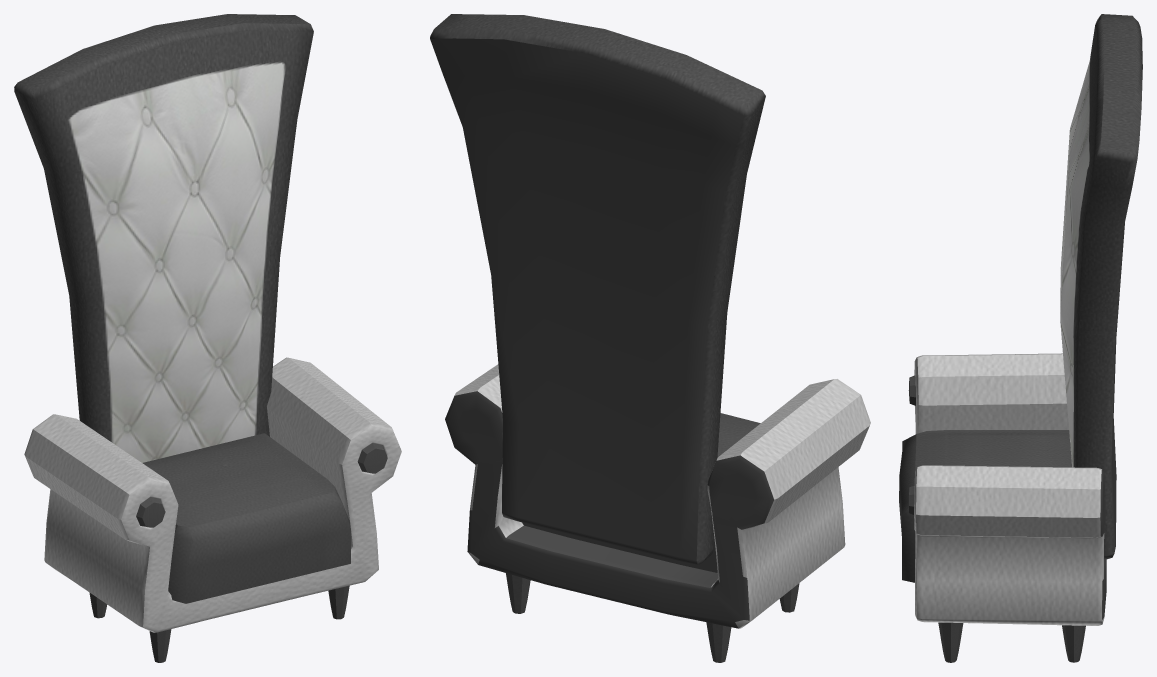
File: Chair.fbx
3 views of the same model, side by side, from view 1: azimuth 30°, elevation 25°; view 2: azimuth 150°, elevation 25°; view 3: azimuth 270°, elevation 25° (orthographic). The views are drawn at different scales.
Visible parts, largest first — view 1: geoChair; view 2: geoChair; view 3: geoChair.
Part boxes in pixels (x1,y1,x2,y2): geoChair: (14, 14, 401, 662); geoChair: (430, 14, 870, 662); geoChair: (899, 14, 1142, 662).
Size of the model in its own units: 110 by 196 by 77.9.
